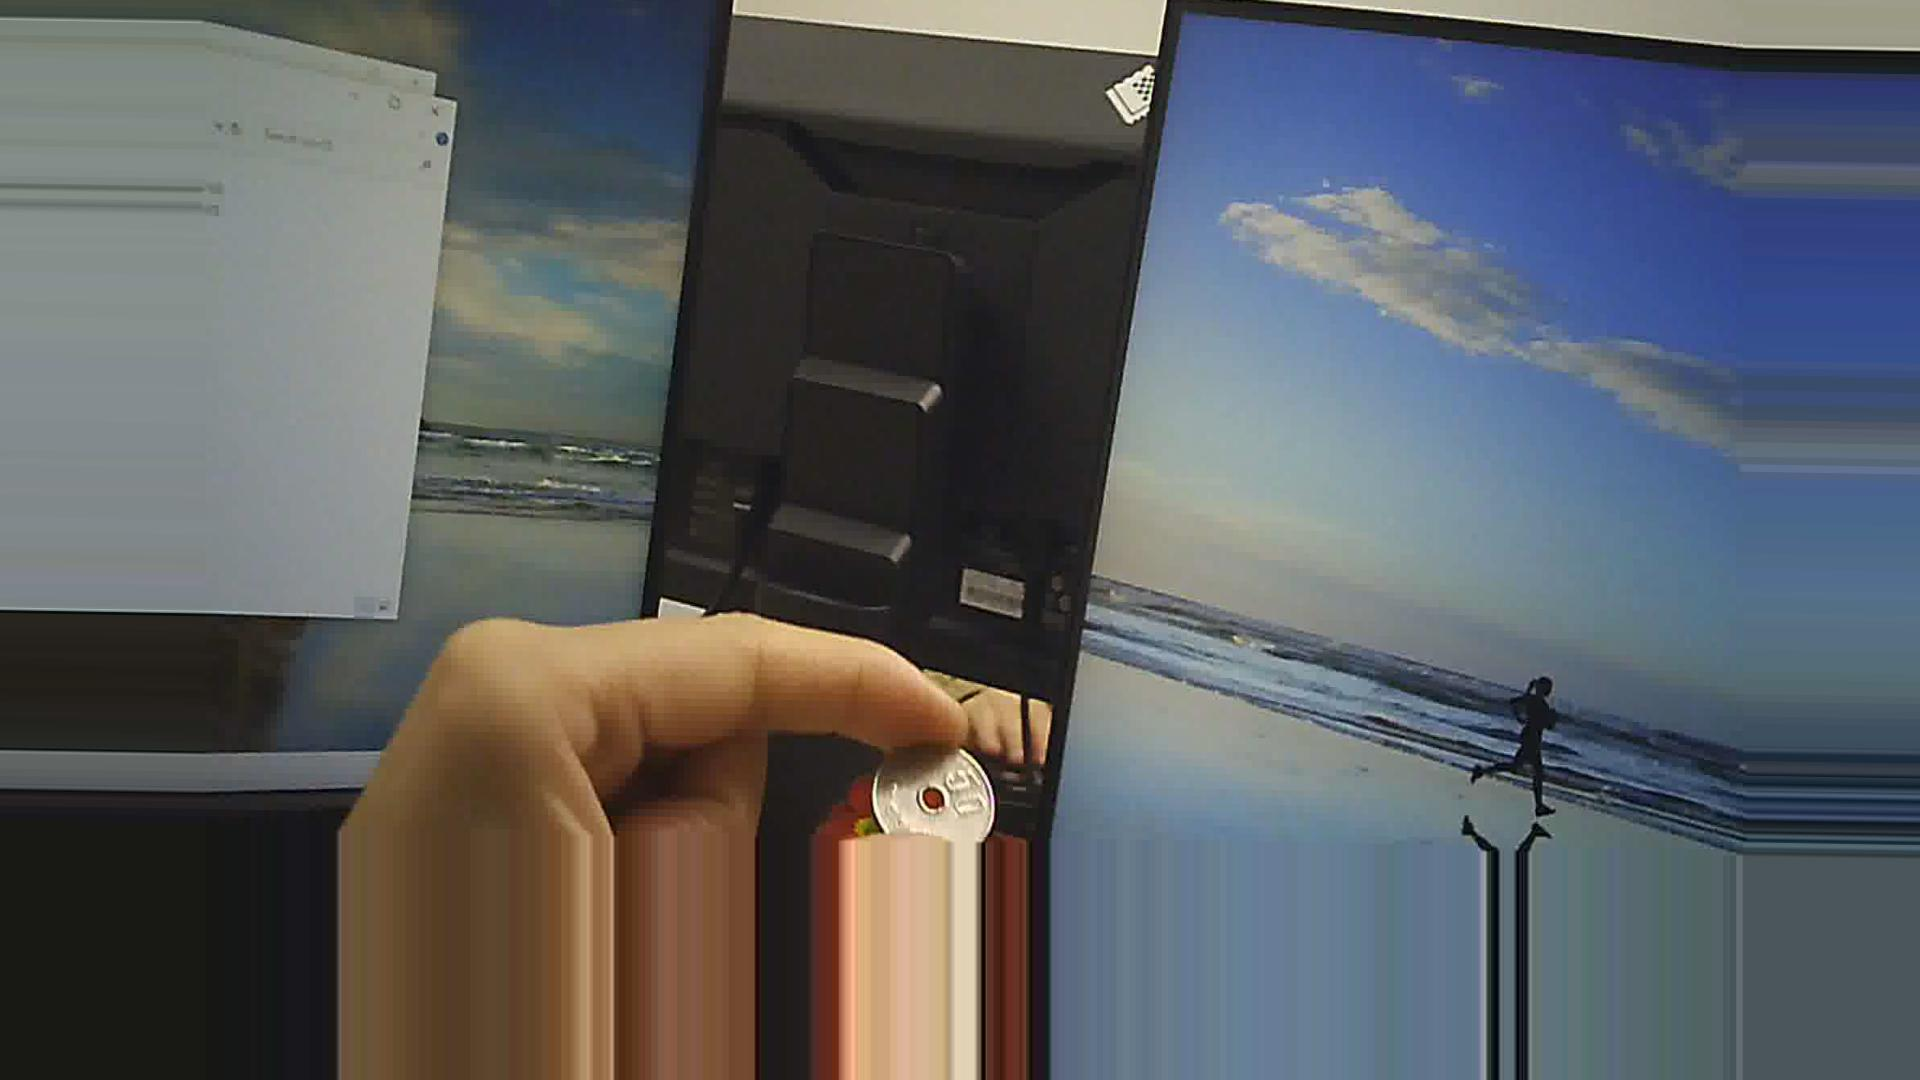50 Yen: (853, 738, 1002, 852)
